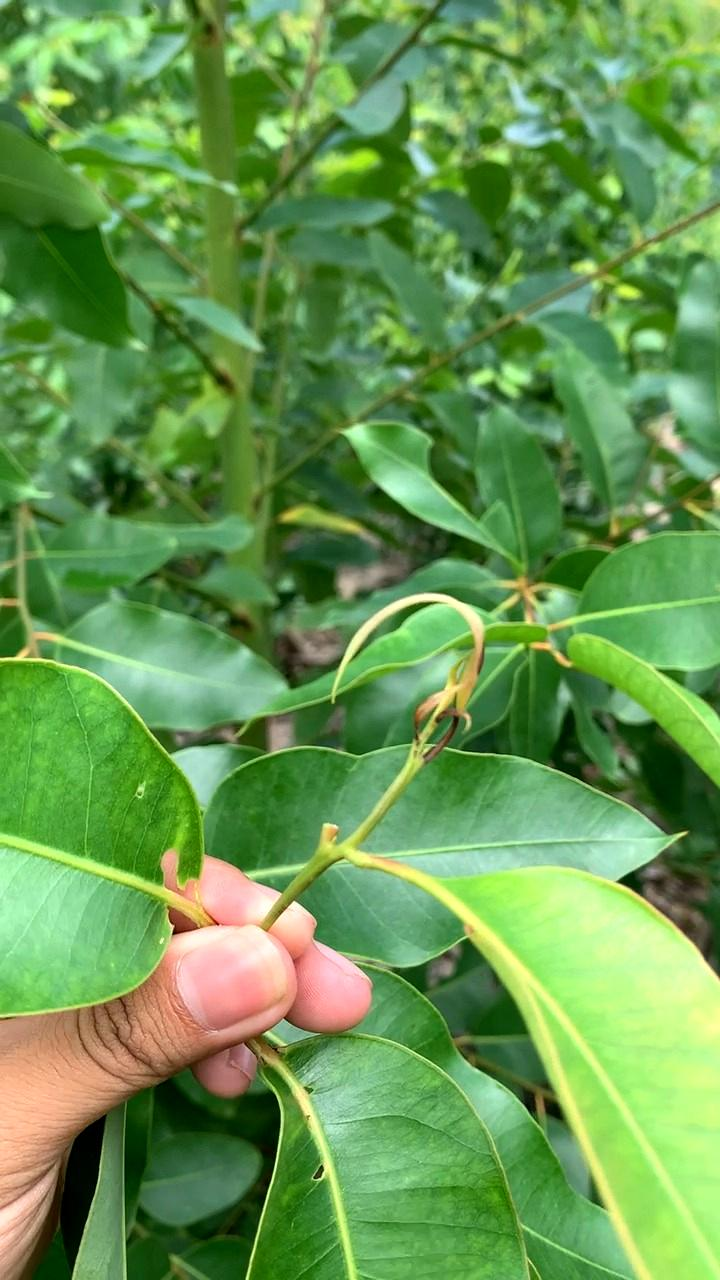Helopeltis-Withered Sprout: (315, 589, 513, 771)
